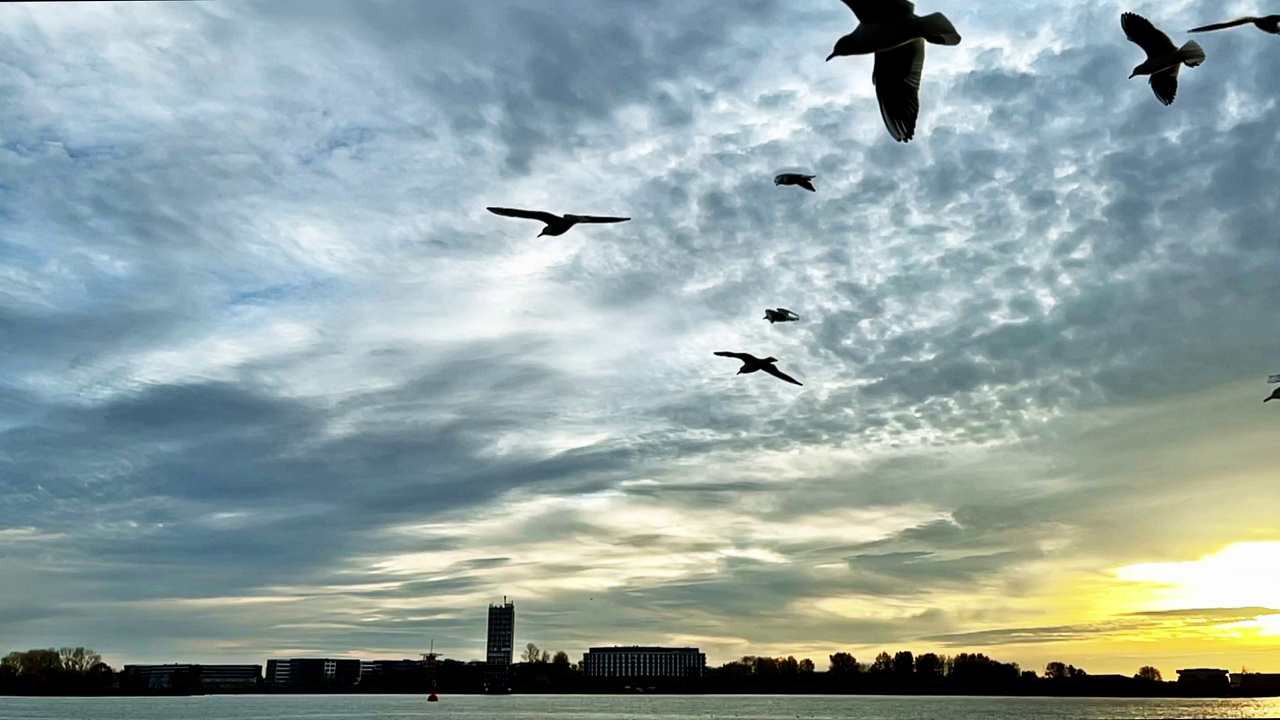bird: (826, 1, 962, 140), (1118, 11, 1205, 105), (484, 205, 628, 235), (713, 350, 801, 385), (1188, 11, 1280, 33), (772, 171, 816, 193), (760, 307, 800, 322)
